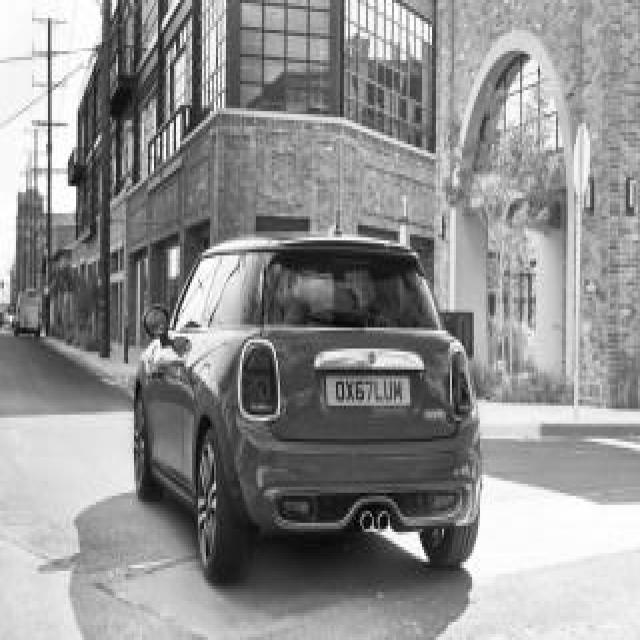Car: (134, 237, 480, 583)
Pole: (99, 0, 111, 356), (45, 17, 54, 333)
